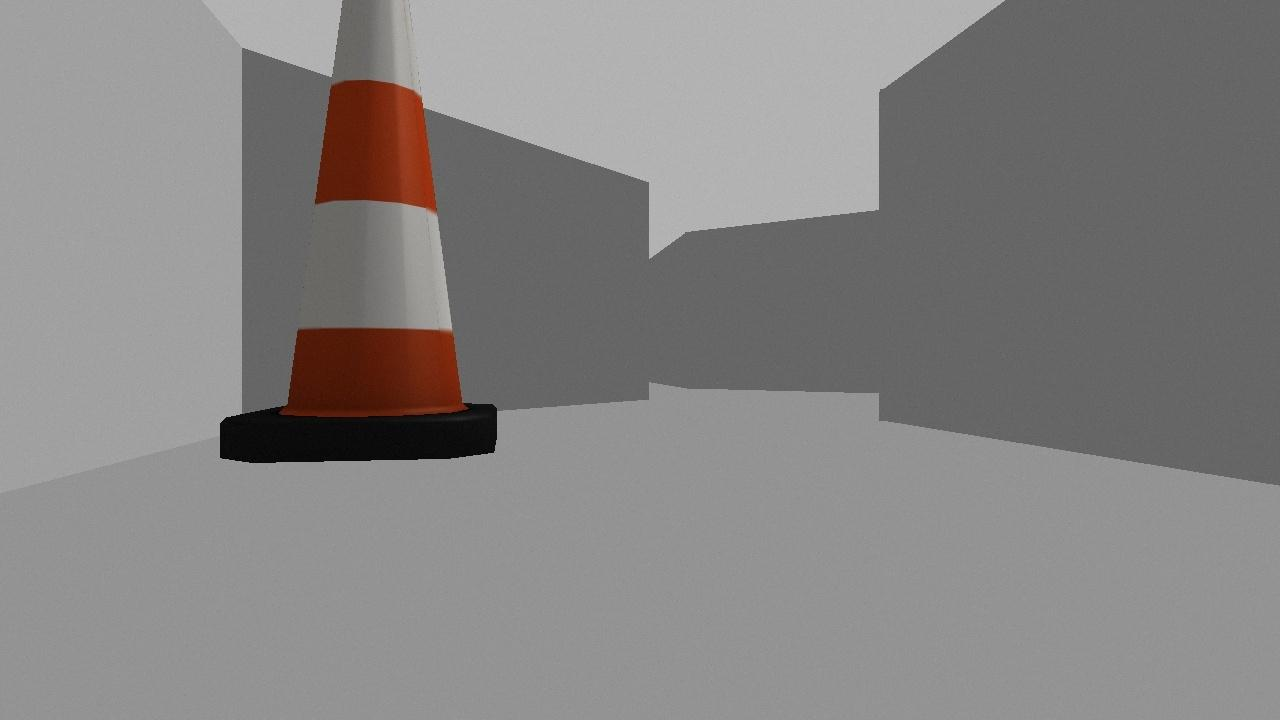cone_barrel: (219, 1, 495, 462)
